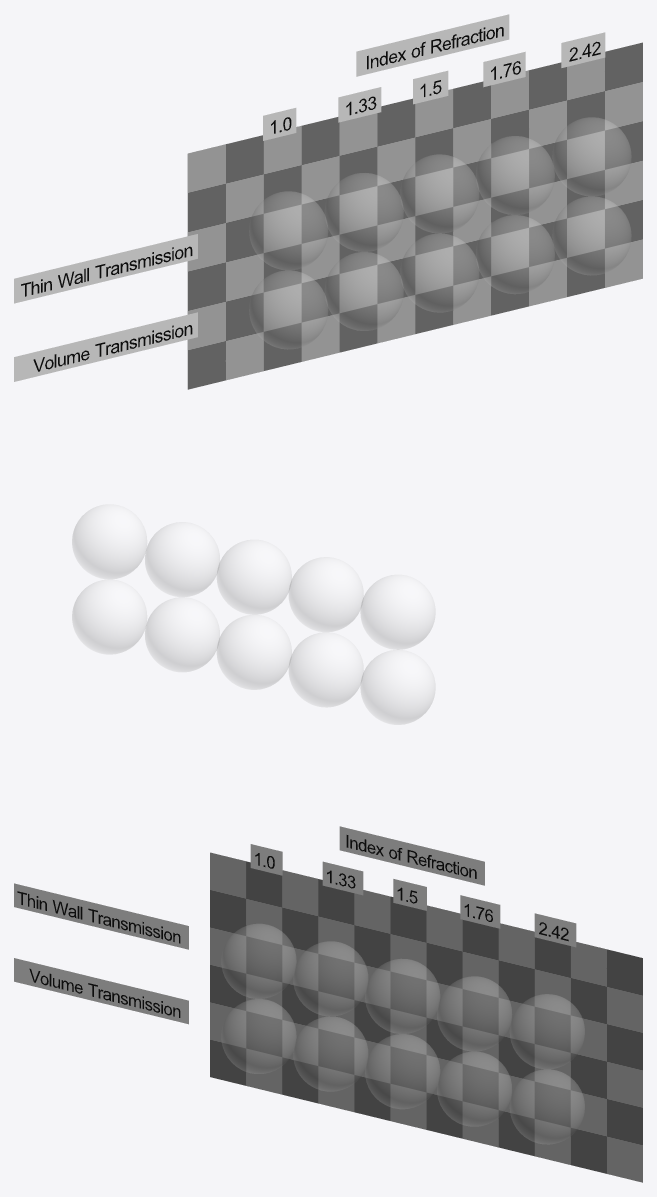
The model's file is TransmissionThinwallTestGrid.glb.
3 views of the same model, one above another, from view 1: azimuth 30°, elevation 25°; view 2: azimuth 150°, elevation 25°; view 3: azimuth 330°, elevation 25° (orthographic). The views are drawn at different scales.
Visible parts, largest first — view 1: CheckerBackdrop, TextBackdrop, Volume_IOR1.00, Volume_IOR1.33, ThinWall_IOR1.33, ThinWall_IOR1.50, Volume_IOR1.76, ThinWall_IOR1.00, ThinWall_IOR2.42, ThinWall_IOR1.76, Volume_IOR1.50, Volume_IOR2.42 (+2 smaller); view 2: Volume_IOR1.76, Volume_IOR2.42, ThinWall_IOR1.00, ThinWall_IOR1.76, Volume_IOR1.00, Volume_IOR1.50, ThinWall_IOR2.42, ThinWall_IOR1.33, Volume_IOR1.33, ThinWall_IOR1.50; view 3: CheckerBackdrop, TextBackdrop, ThinWall_IOR1.76, Volume_IOR1.76, ThinWall_IOR1.00, Volume_IOR1.00, Volume_IOR2.42, ThinWall_IOR1.33, Volume_IOR1.50, ThinWall_IOR2.42, ThinWall_IOR1.50, Volume_IOR1.33 (+2 smaller).
Part boxes in pixels (x1=…): CheckerBackdrop: x1=187, y1=42, x2=642, y2=389; TextBackdrop: x1=14, y1=14, x2=605, y2=381; Volume_IOR1.00: x1=249, y1=270, x2=327, y2=349; Volume_IOR1.33: x1=325, y1=252, x2=403, y2=330; ThinWall_IOR1.33: x1=325, y1=173, x2=403, y2=251; ThinWall_IOR1.50: x1=400, y1=154, x2=478, y2=233; Volume_IOR1.76: x1=476, y1=215, x2=554, y2=293; ThinWall_IOR1.00: x1=249, y1=191, x2=327, y2=269; ThinWall_IOR2.42: x1=552, y1=117, x2=631, y2=195; ThinWall_IOR1.76: x1=476, y1=136, x2=554, y2=214; Volume_IOR1.50: x1=400, y1=234, x2=478, y2=312; Volume_IOR2.42: x1=552, y1=196, x2=631, y2=274; Volume_IOR1.76: x1=145, y1=597, x2=219, y2=671; Volume_IOR2.42: x1=72, y1=579, x2=146, y2=654; ThinWall_IOR1.00: x1=360, y1=575, x2=435, y2=649; ThinWall_IOR1.76: x1=145, y1=522, x2=219, y2=596; Volume_IOR1.00: x1=360, y1=650, x2=435, y2=724; Volume_IOR1.50: x1=217, y1=615, x2=291, y2=689; ThinWall_IOR2.42: x1=72, y1=504, x2=146, y2=578; ThinWall_IOR1.33: x1=289, y1=557, x2=363, y2=631; Volume_IOR1.33: x1=289, y1=632, x2=363, y2=707; ThinWall_IOR1.50: x1=217, y1=540, x2=291, y2=614; CheckerBackdrop: x1=210, y1=852, x2=642, y2=1182; TextBackdrop: x1=14, y1=826, x2=576, y2=1024; ThinWall_IOR1.76: x1=437, y1=976, x2=511, y2=1051; Volume_IOR1.76: x1=437, y1=1052, x2=511, y2=1126; ThinWall_IOR1.00: x1=221, y1=924, x2=296, y2=998; Volume_IOR1.00: x1=221, y1=999, x2=296, y2=1073; Volume_IOR2.42: x1=510, y1=1069, x2=584, y2=1144; ThinWall_IOR1.33: x1=293, y1=941, x2=367, y2=1015; Volume_IOR1.50: x1=365, y1=1034, x2=439, y2=1108; ThinWall_IOR2.42: x1=510, y1=994, x2=584, y2=1068; ThinWall_IOR1.50: x1=365, y1=959, x2=439, y2=1033; Volume_IOR1.33: x1=293, y1=1016, x2=367, y2=1091.
Size of the model in its own units: 18.79 by 8.7 by 2.25.
Materials: 13 (1 with a texture image).
